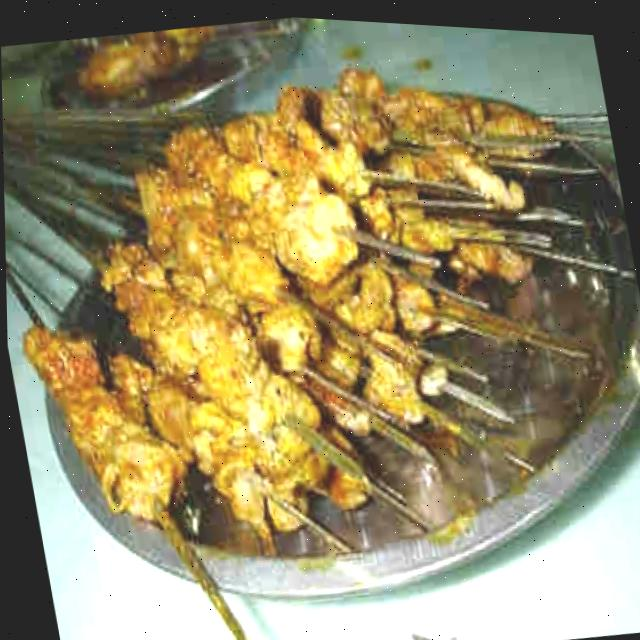烧串烤肉: (0, 5, 640, 624)
